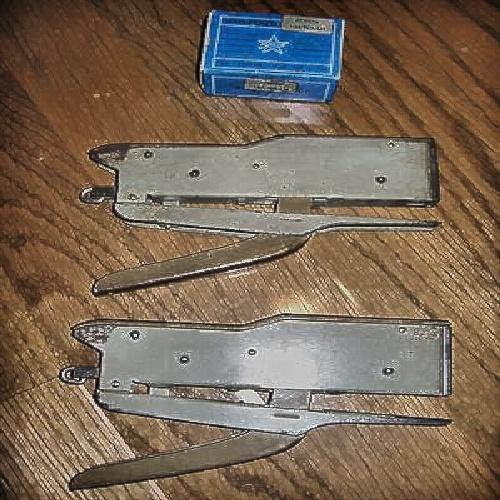stapler: (88, 303, 465, 456), (92, 136, 462, 269)
